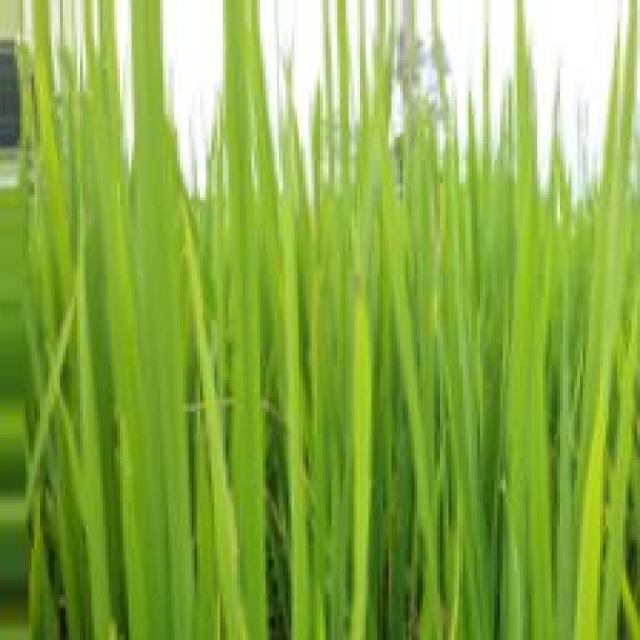HealthyLeaf: (120, 339, 194, 639), (510, 445, 551, 640)
